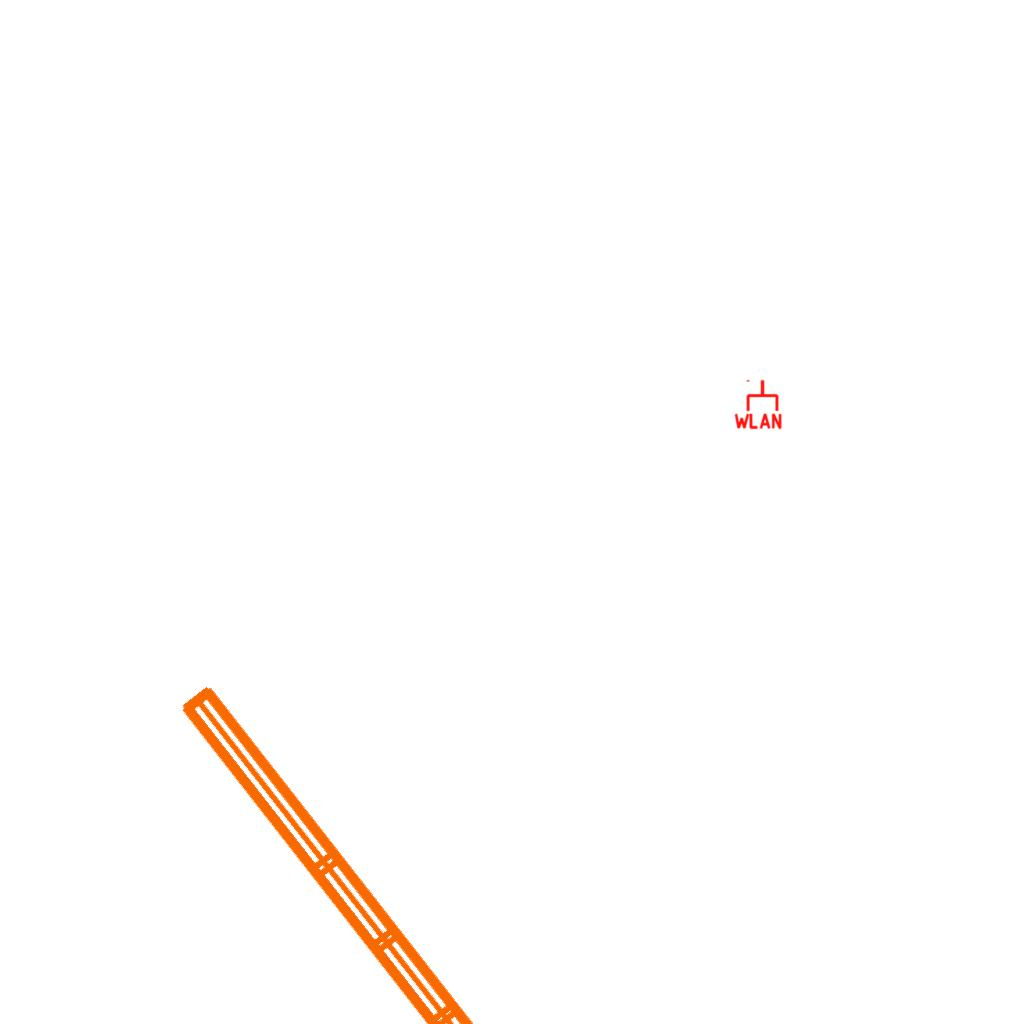Ambulanz_Pendelleuchte_LED: (163, 637, 729, 1024)
WLAN: (732, 378, 784, 430)
